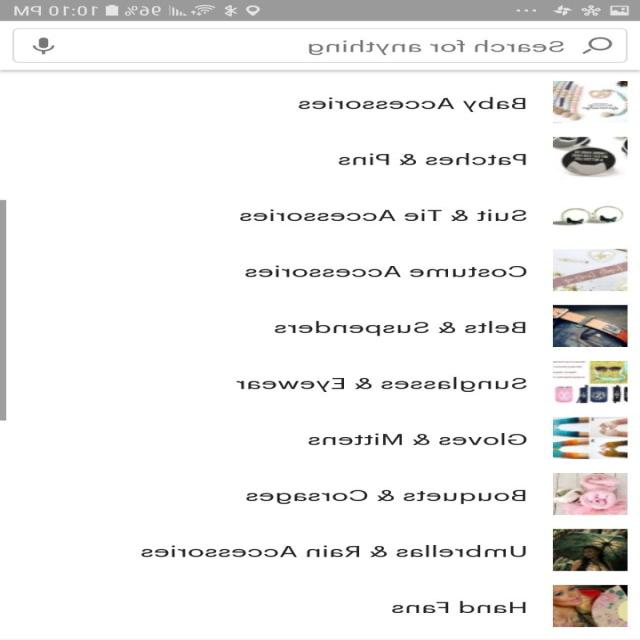EditText: (14, 28, 628, 63)
Icon: (582, 37, 614, 54), (33, 37, 55, 54)
Image: (552, 248, 628, 291), (552, 584, 628, 626), (552, 528, 628, 570), (552, 472, 628, 514), (552, 417, 628, 459), (552, 361, 628, 403), (552, 304, 628, 346), (552, 81, 628, 123), (552, 136, 628, 176), (553, 204, 625, 226)
Text: (237, 376, 527, 392), (141, 545, 527, 557), (308, 39, 566, 56), (246, 489, 526, 504), (274, 320, 526, 336), (240, 209, 527, 221), (298, 97, 526, 112), (245, 265, 527, 277), (308, 432, 528, 445), (338, 153, 528, 165), (392, 600, 526, 613)
